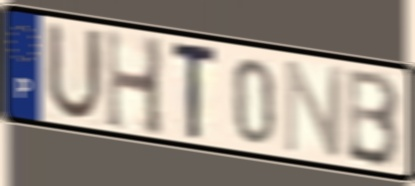0: (229, 55, 280, 147)
B: (345, 66, 403, 171)
H: (103, 25, 167, 140)
N: (282, 57, 347, 160)
T: (170, 41, 221, 143)
U: (44, 17, 106, 126)
